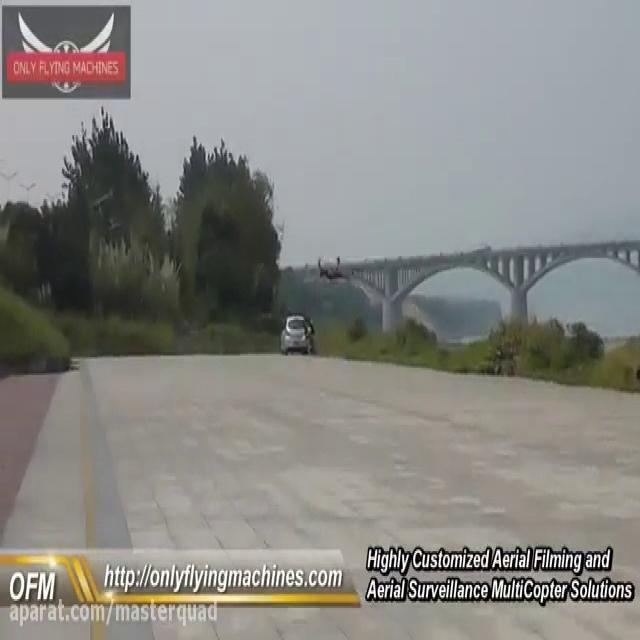drone: (315, 250, 345, 282)
